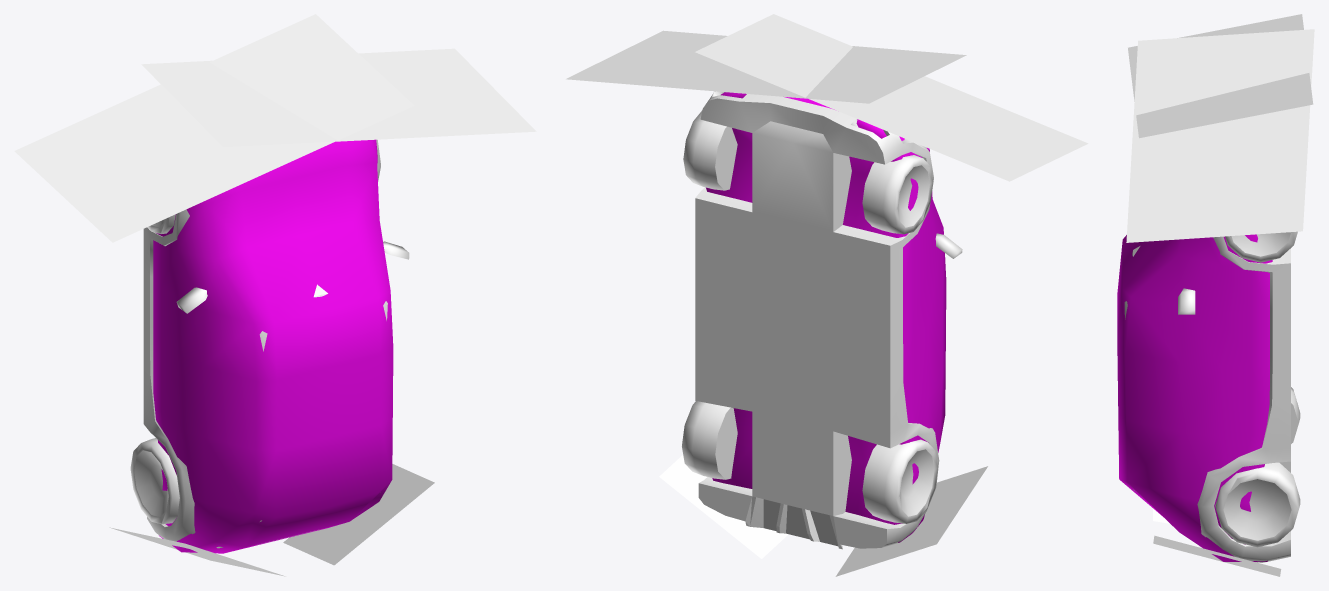
Rendered from MiniCooper.glb.
3 renders of one model, left to right at view 1: azimuth 30°, elevation 25°; view 2: azimuth 150°, elevation 25°; view 3: azimuth 270°, elevation 25°, orthographic. The views are drawn at different scales.
Visible parts, largest first — view 1: MiniCooperProxy, MiniCooperFrontLights, MiniCooper, MiniCooperRearLights, MiniCooperWheel_LB; view 2: MiniCooper, MiniCooperFrontLights, MiniCooperProxy, MiniCooperRearLights, MiniCooperWheel_LB, MiniCooperWheel_LF, MiniCooperWheel_RB, MiniCooperWheel_RF; view 3: MiniCooperFrontLights, MiniCooperProxy, MiniCooper, MiniCooperWheel_RB, MiniCooperWheel_RF, MiniCooperRearLights, MiniCooperWheel_LB.
Part boxes in pixels (x1,y1,x2,y2): MiniCooperProxy: (153,139,393,553); MiniCooperFrontLights: (14,14,536,242); MiniCooper: (143,139,409,548); MiniCooperRearLights: (109,464,434,576); MiniCooperWheel_LB: (130,438,179,524); MiniCooper: (695,91,962,549); MiniCooperFrontLights: (566,14,1088,181); MiniCooperProxy: (706,92,946,542); MiniCooperRearLights: (659,455,987,576); MiniCooperWheel_LB: (862,439,937,523); MiniCooperWheel_LF: (862,155,933,234); MiniCooperWheel_RB: (682,401,737,479); MiniCooperWheel_RF: (683,110,737,190); MiniCooperFrontLights: (1126,14,1314,242); MiniCooperProxy: (1117,234,1272,561); MiniCooper: (1124,236,1290,562); MiniCooperWheel_RB: (1215,462,1300,547); MiniCooperWheel_RF: (1225,231,1297,262); MiniCooperRearLights: (1153,508,1281,576); MiniCooperWheel_LB: (1291,387,1300,443).
Size of the model in its own units: 3.82 by 4.17 by 1.5.
